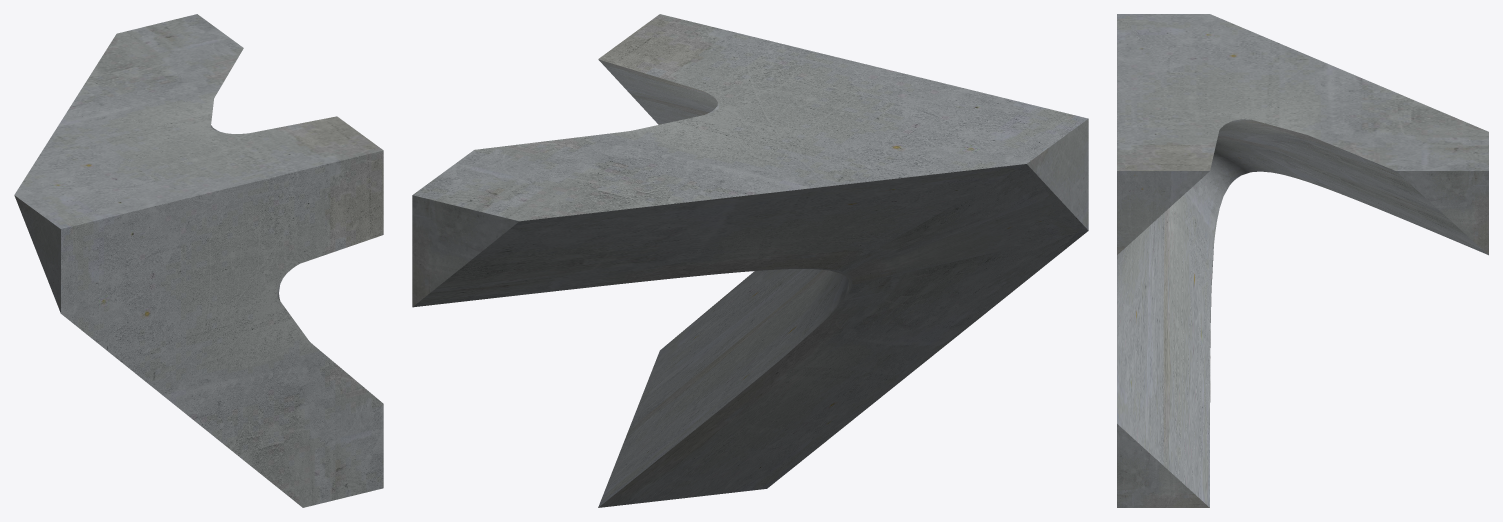
Rendered from module_L1.fbx.
3 renders of one model, left to right at view 1: azimuth 30°, elevation 25°; view 2: azimuth 150°, elevation 25°; view 3: azimuth 270°, elevation 25°, orthographic. The views are drawn at different scales.
Visible parts, largest first — view 1: modules; view 2: modules; view 3: modules.
Part boxes in pixels (left/top/right/bottom): modules: left=14, top=14, right=383, bottom=507; modules: left=412, top=14, right=1088, bottom=507; modules: left=1117, top=14, right=1488, bottom=507.
Bounding box in the file's own units: 1000 × 1000 × 1000.
1 material, 1 textured.
